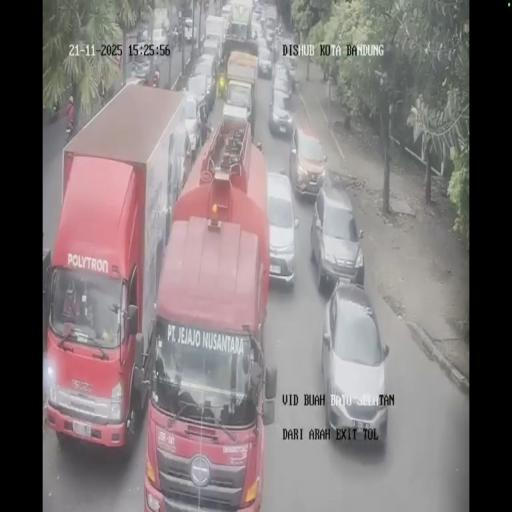car: (310, 180, 363, 291), (289, 122, 327, 199), (185, 72, 211, 131), (276, 37, 296, 83), (201, 36, 220, 70), (150, 28, 168, 55), (256, 36, 269, 68), (264, 17, 276, 46), (183, 18, 196, 42), (250, 19, 263, 43), (220, 4, 232, 28), (136, 22, 148, 42)
motorcycle: (151, 70, 160, 88)
